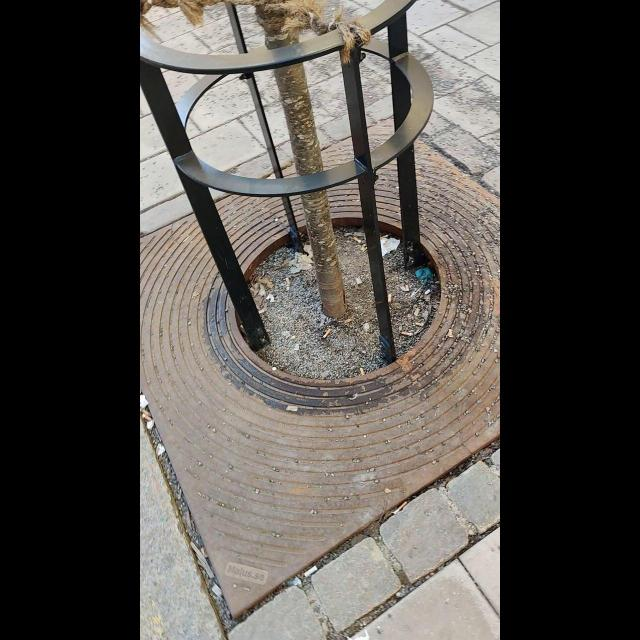cigarette: (392, 500, 408, 515), (283, 404, 302, 414), (448, 327, 457, 341), (322, 328, 331, 341), (352, 238, 364, 246), (266, 292, 274, 304), (358, 366, 366, 376), (142, 406, 150, 416), (414, 320, 424, 328), (401, 331, 413, 337), (141, 415, 153, 421), (344, 318, 354, 325), (404, 284, 411, 292), (285, 276, 291, 285), (413, 308, 419, 316), (381, 235, 391, 239), (389, 296, 393, 303), (424, 291, 430, 295)
